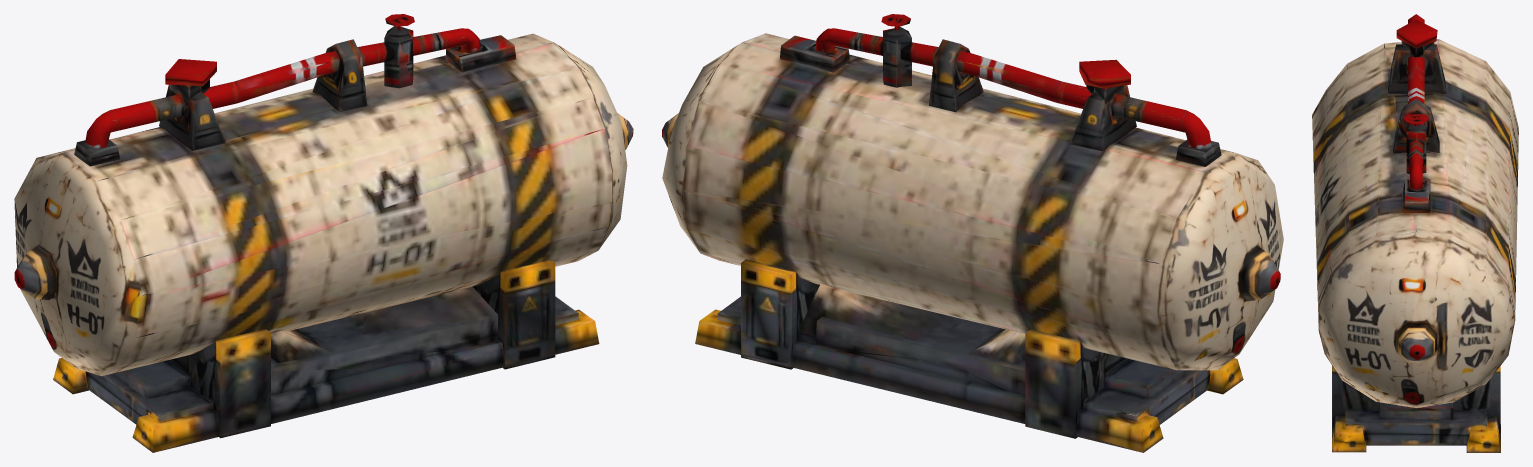
The model's file is fuel-tank-4.glb.
3 renders of one model, left to right at view 1: azimuth 30°, elevation 25°; view 2: azimuth 150°, elevation 25°; view 3: azimuth 270°, elevation 25°, orthographic. The views are drawn at different scales.
Visible parts, largest first — view 1: geometry_0; view 2: geometry_0; view 3: geometry_0.
Boxes of the visible parts, bbox=[...] form: geometry_0: bbox=[14, 14, 633, 452]; geometry_0: bbox=[662, 14, 1283, 452]; geometry_0: bbox=[1312, 14, 1518, 452].
Bounding box in the file's own units: 0.9497 × 0.4893 × 0.3306.
Materials: 1 (1 with a texture image).
